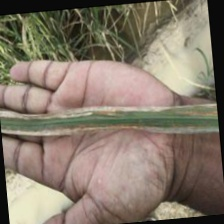Leaf_Blast: (0, 101, 211, 128)
